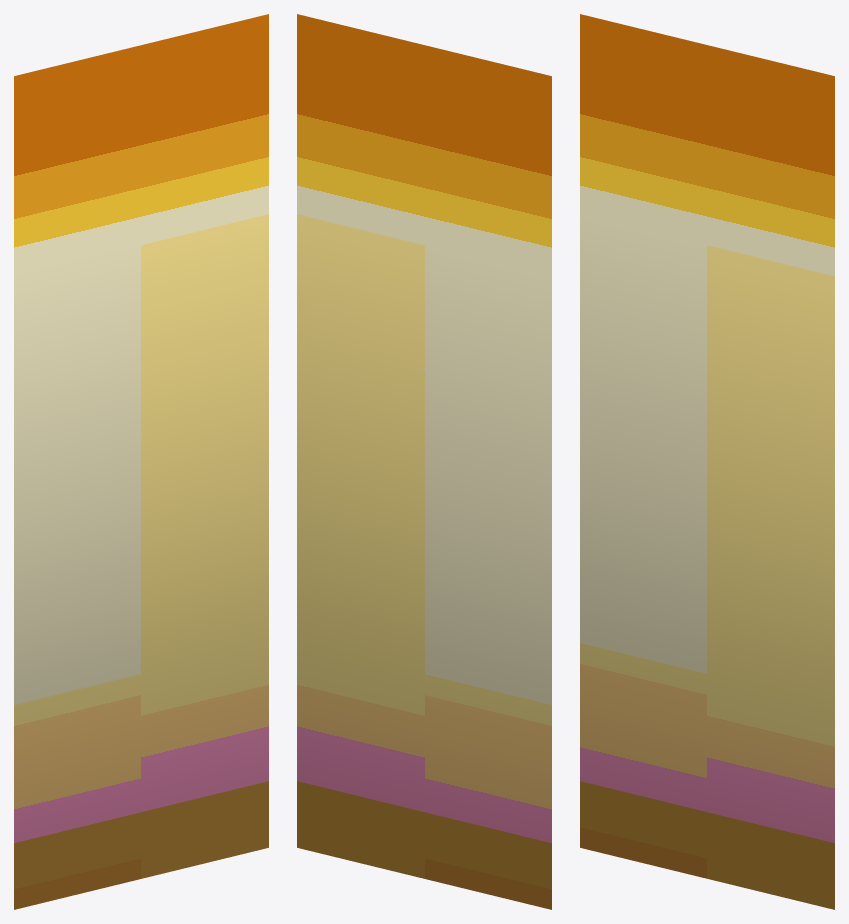
The picture shows the model from 3 angles, left to right: view 1: azimuth 30°, elevation 25°; view 2: azimuth 150°, elevation 25°; view 3: azimuth 330°, elevation 25°; orthographic projection.
Size of the model in its own units: 1 by 3.12 by 0.
Materials: 2 (2 with a texture image).
